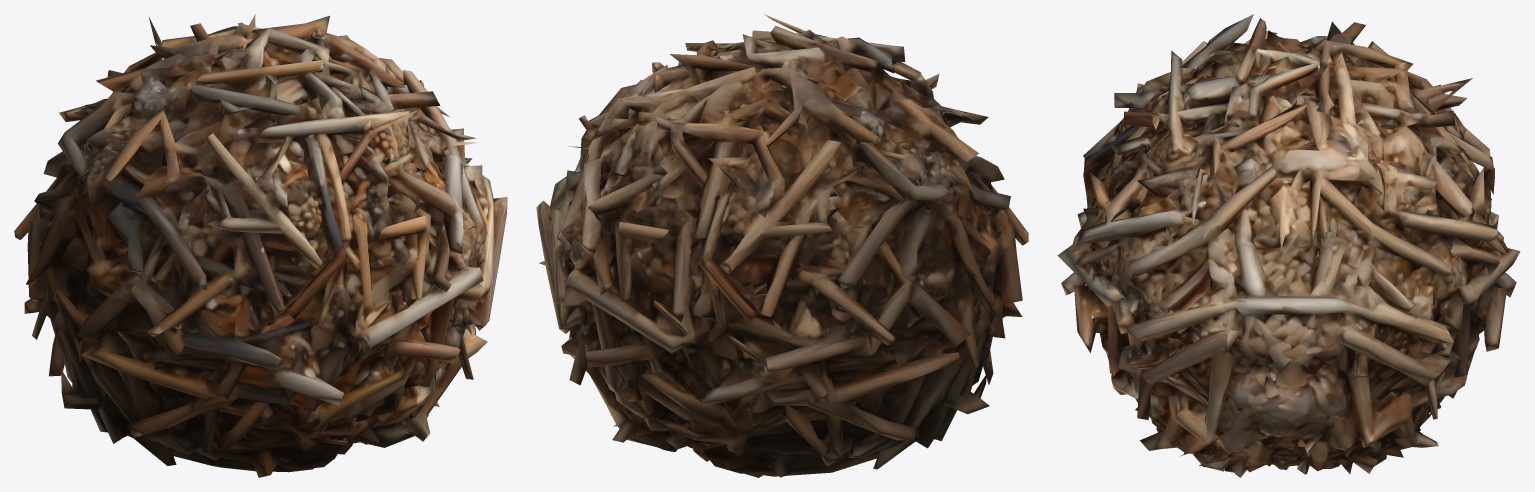
File: tripo_convert_21ae8f92-f3f0-4291-ae5c-dc36b3316e53.fbx
3 views of the same model, side by side, from view 1: azimuth 30°, elevation 25°; view 2: azimuth 150°, elevation 25°; view 3: azimuth 270°, elevation 25° (orthographic). The views are drawn at different scales.
Visible parts, largest first — view 1: tripo_node_21ae8f92; view 2: tripo_node_21ae8f92; view 3: tripo_node_21ae8f92.
Boxes of the visible parts, x1,y1,x2,y2 form: tripo_node_21ae8f92: (14, 14, 507, 477); tripo_node_21ae8f92: (536, 14, 1028, 477); tripo_node_21ae8f92: (1057, 14, 1520, 477).
Bounding box in the file's own units: 1 × 0.8845 × 0.9296.
Materials: 1 (1 with a texture image).
